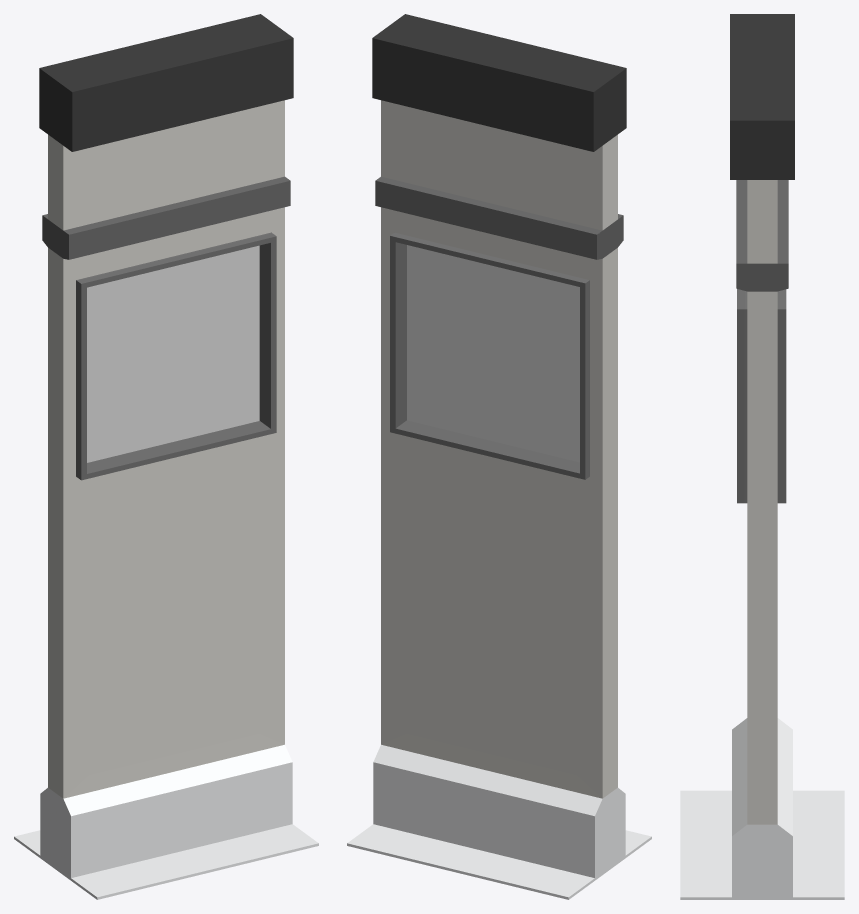
Rendered from Wall-Win-Hi-2sq.fbx.
The picture shows the model from 3 angles, left to right: view 1: azimuth 30°, elevation 25°; view 2: azimuth 150°, elevation 25°; view 3: azimuth 270°, elevation 25°; orthographic projection.
Visible parts, largest first — view 1: Wall-Win-2sq, WinPane2sq, WinFrame2sq; view 2: Wall-Win-2sq, WinPane2sq, WinFrame2sq; view 3: Wall-Win-2sq, WinFrame2sq.
Part boxes in pixels (<box>): Wall-Win-2sq: <box>14,14,318,899</box>; WinPane2sq: <box>87,245,259,462</box>; WinFrame2sq: <box>76,232,276,480</box>; Wall-Win-2sq: <box>347,14,651,899</box>; WinPane2sq: <box>407,245,579,462</box>; WinFrame2sq: <box>390,232,589,479</box>; Wall-Win-2sq: <box>680,14,844,899</box>; WinFrame2sq: <box>737,289,786,503</box>.
Size of the model in its own units: 2.65 by 1.72 by 9.02.
